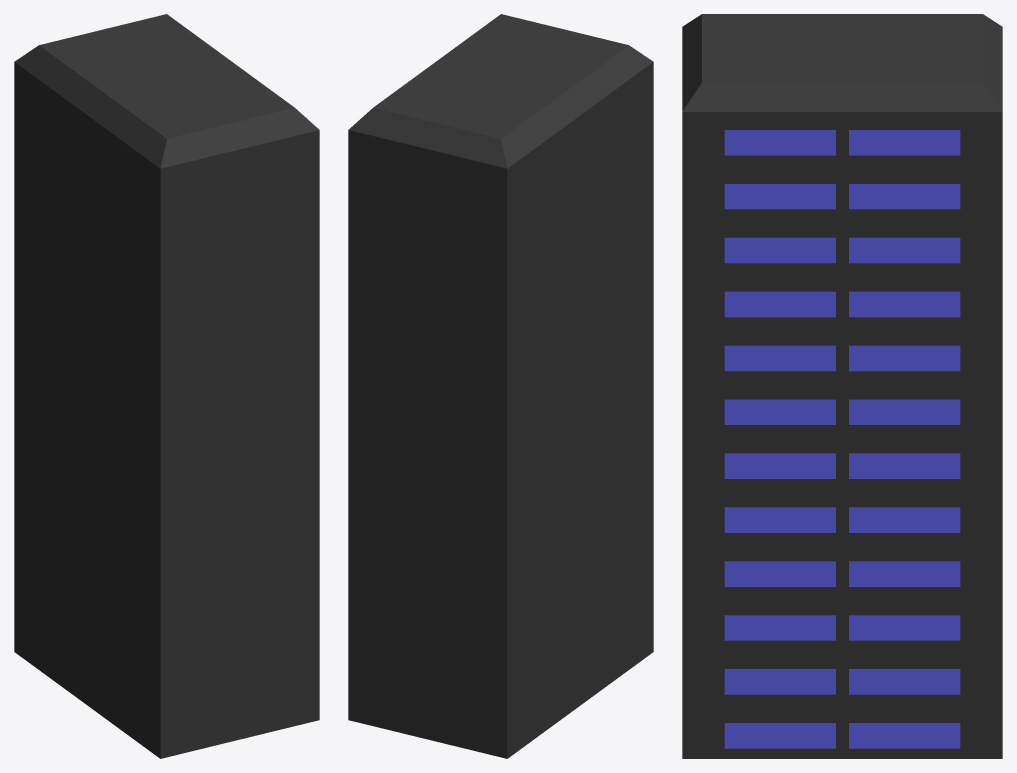
Rendered from Ngoaicanh4.obj.
The picture shows the model from 3 angles, left to right: view 1: azimuth 30°, elevation 25°; view 2: azimuth 150°, elevation 25°; view 3: azimuth 270°, elevation 25°; orthographic projection. The views are drawn at different scales.
Parts seen in each view (by area): view 1: Mesh1 Group1 Model; view 2: Mesh1 Group1 Model; view 3: Mesh1 Group1 Model.
Part boxes in pixels (<box>): Mesh1 Group1 Model: <box>14,14,319,758</box>; Mesh1 Group1 Model: <box>348,14,653,758</box>; Mesh1 Group1 Model: <box>682,14,1002,758</box>.
Size of the model in its own units: 11210 by 41034 by 17836.
